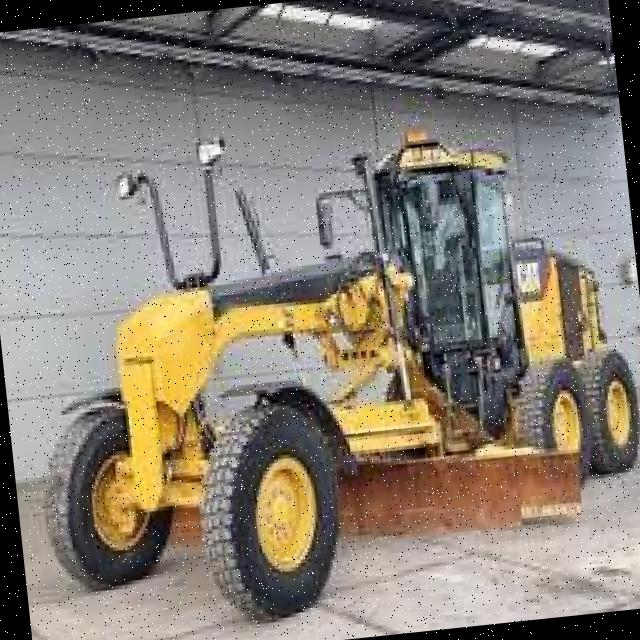Grader: (1, 83, 640, 627)
